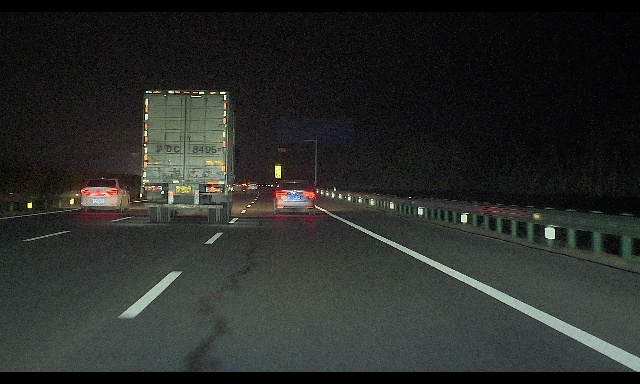car: (80, 177, 131, 213), (272, 179, 316, 215), (246, 182, 258, 191)
truck: (139, 89, 241, 223)
